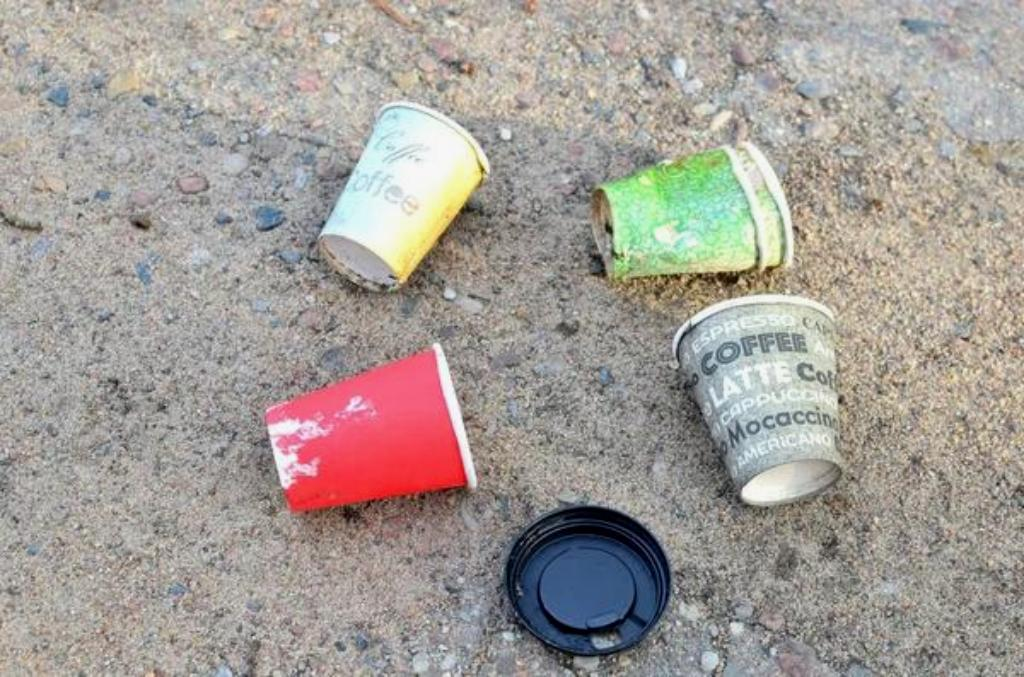garbage: (671, 297, 863, 507), (267, 344, 476, 520), (319, 105, 491, 292), (588, 138, 795, 278), (500, 504, 673, 656)
